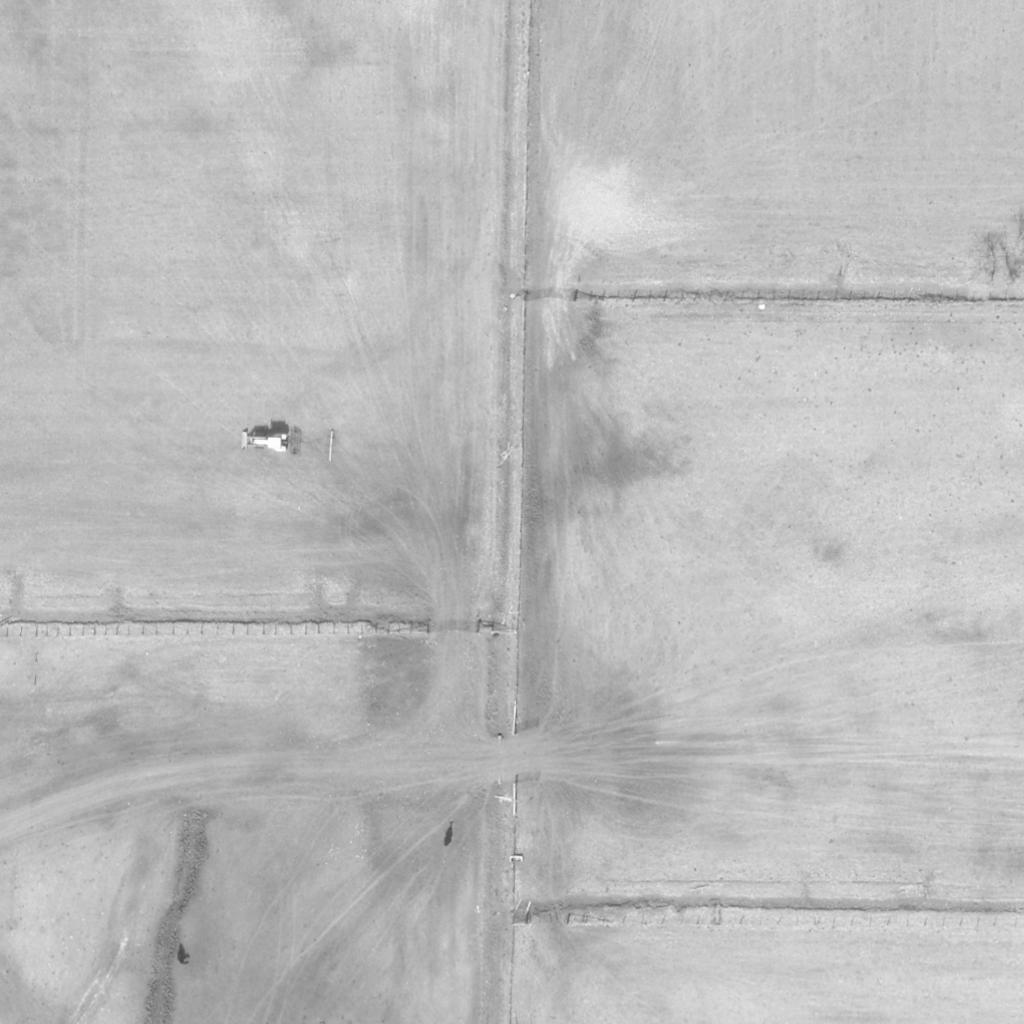vehicle: (248, 428, 290, 454)
